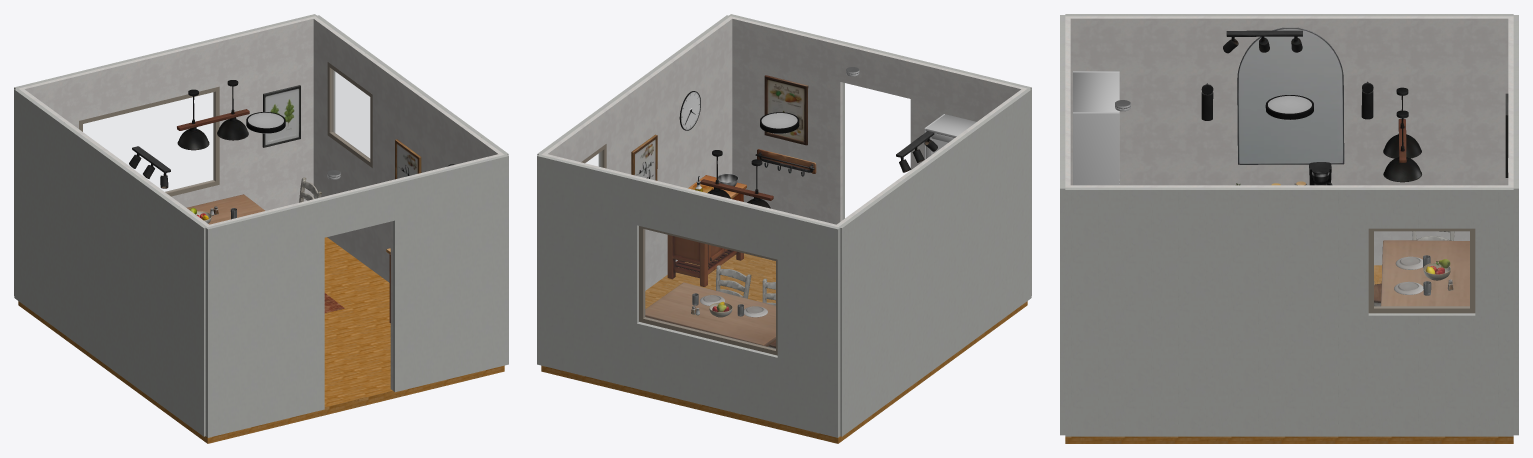
The model's file is scene_web.glb.
The picture shows the model from 3 angles, left to right: view 1: azimuth 30°, elevation 25°; view 2: azimuth 150°, elevation 25°; view 3: azimuth 270°, elevation 25°; orthographic projection. The views are drawn at different scales.
Visible parts, largest first — view 1: geometry_0.003, geometry_0.007, geometry_0, geometry_0.004, Mesh_0, glass, glass.001, geometry_0.025, geometry_0.023, frame, geometry_0.002, frame.001 (+7 smaller); view 2: geometry_0.001, geometry_0.007, geometry_0.002, geometry_0.004, glass, Mesh_0, geometry_0.008, geometry_0.014, frame, geometry_0.020, geometry_0.003, geometry_0.025 (+10 smaller); view 3: geometry_0.005, geometry_0.006, geometry_0.015, glass.001, geometry_0.008, Mesh_0, P_ebb5f6f3a411bfcc.001, geometry_0.001, geometry_0.003, frame.001, P_fb844cd6a74bd8b2.001, geometry_0.025 (+7 smaller).
Boxes of the visible parts, <box> form: geometry_0.003: <box>205,154,508,437</box>; geometry_0.007: <box>14,88,207,436</box>; geometry_0: <box>22,17,313,210</box>; geometry_0.004: <box>311,16,504,282</box>; Mesh_0: <box>18,237,504,443</box>; glass: <box>83,92,214,192</box>; glass.001: <box>331,69,369,159</box>; geometry_0.025: <box>177,80,249,150</box>; geometry_0.023: <box>262,85,300,147</box>; frame: <box>79,86,219,196</box>; geometry_0.002: <box>210,154,500,390</box>; frame.001: <box>327,62,372,167</box>; geometry_0.001: <box>537,154,840,437</box>; geometry_0.007: <box>838,88,1031,436</box>; geometry_0.002: <box>732,17,1023,224</box>; geometry_0.004: <box>541,16,734,290</box>; glass: <box>644,229,775,349</box>; Mesh_0: <box>541,253,1027,443</box>; geometry_0.008: <box>645,282,775,346</box>; geometry_0.014: <box>667,175,746,286</box>; frame: <box>639,226,777,355</box>; geometry_0.020: <box>764,75,808,145</box>; geometry_0.003: <box>729,14,1031,295</box>; geometry_0.025: <box>700,150,773,208</box>; geometry_0.005: <box>1065,187,1513,436</box>; geometry_0.006: <box>1065,16,1513,265</box>; geometry_0.015: <box>1237,27,1344,164</box>; glass.001: <box>1374,231,1469,307</box>; geometry_0.008: <box>1380,240,1469,306</box>; Mesh_0: <box>1065,265,1513,443</box>; P_ebb5f6f3a411bfcc.001: <box>1073,112,1119,185</box>; geometry_0.001: <box>1513,15,1518,435</box>; geometry_0.003: <box>1060,15,1065,435</box>; frame.001: <box>1368,228,1475,313</box>; P_fb844cd6a74bd8b2.001: <box>1073,72,1119,112</box>; geometry_0.025: <box>1383,87,1421,182</box>.
Bounding box in the file's own units: 3.9 × 2.65 × 4.3.
45 materials, 37 textured.
